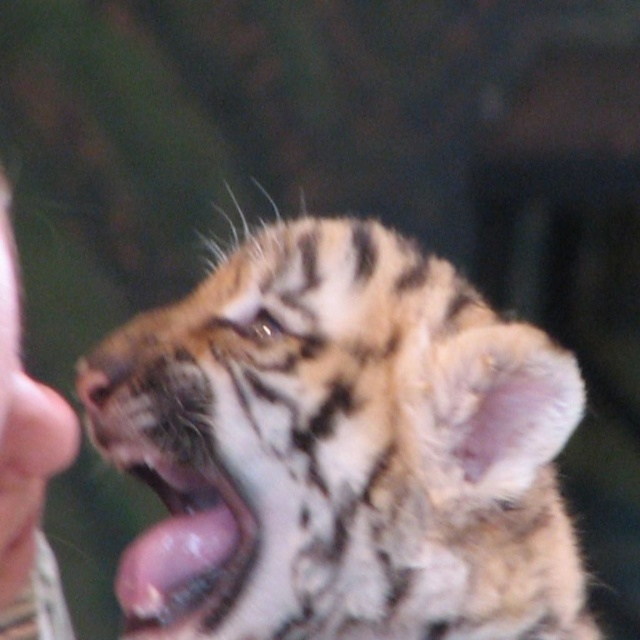Tiger: (73, 178, 618, 639)
